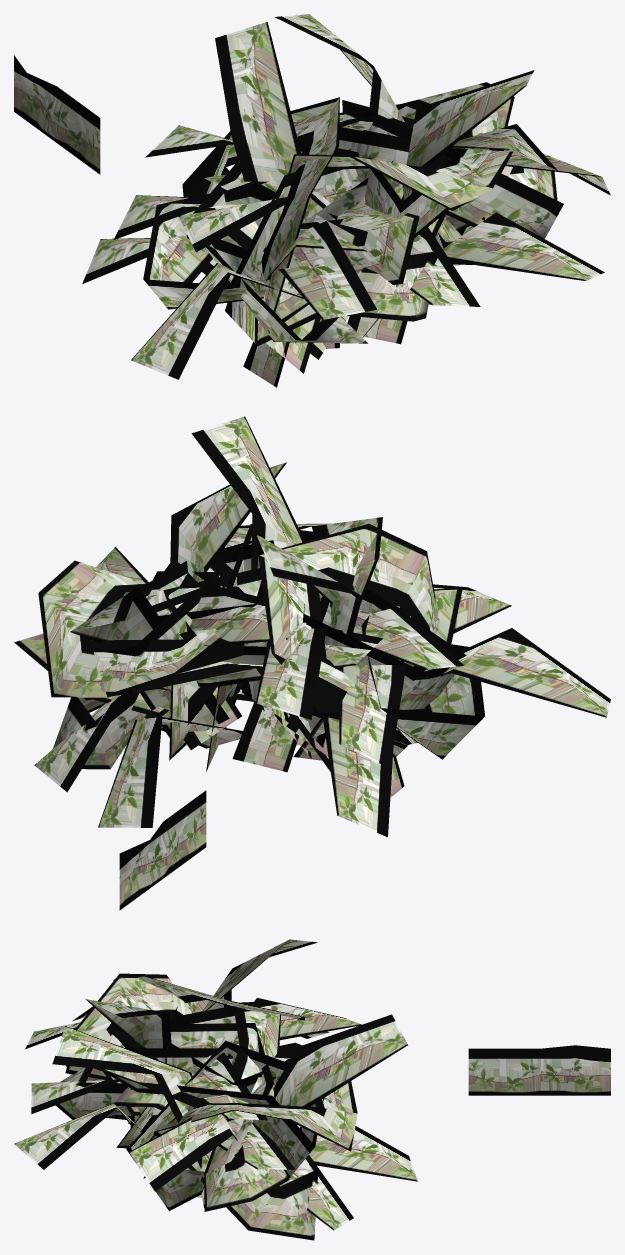
Rendered from ronces_low2.fbx.
3 views of the same model, one above another, from view 1: azimuth 30°, elevation 25°; view 2: azimuth 150°, elevation 25°; view 3: azimuth 270°, elevation 25° (orthographic). The views are drawn at different scales.
Visible parts, largest first — view 1: Plane.002, Plane; view 2: Plane.002, Plane; view 3: Plane.002, Plane.
Part boxes in pixels (box(x1,y1,x2,y2)): Plane.002: box(82, 14, 610, 387); Plane: box(14, 55, 100, 174); Plane.002: box(14, 416, 610, 837); Plane: box(119, 790, 206, 910); Plane.002: box(14, 939, 417, 1240); Plane: box(468, 1045, 610, 1095).
Bounding box in the file's own units: 663 × 366 × 820.
